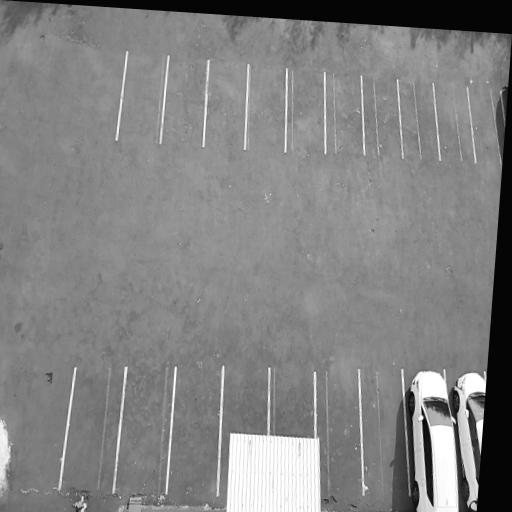Car: (405, 357, 460, 512), (450, 370, 487, 512)
Space Available: (59, 369, 126, 492), (165, 362, 223, 498), (113, 367, 175, 493), (360, 368, 410, 496), (317, 368, 363, 495), (117, 51, 168, 141), (160, 58, 208, 144), (204, 61, 248, 148), (244, 64, 287, 148), (398, 79, 440, 163), (325, 71, 365, 157), (284, 72, 325, 155), (220, 367, 269, 436), (434, 82, 475, 162), (362, 76, 403, 156), (268, 368, 314, 437), (469, 87, 505, 163)
